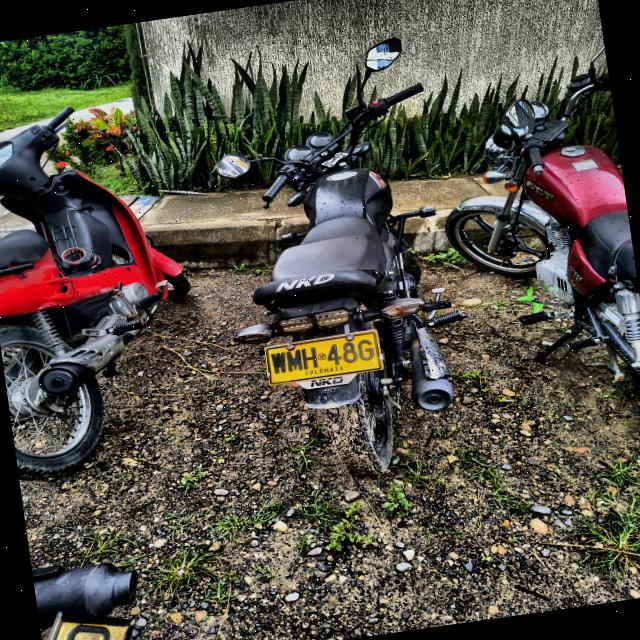plate: (264, 331, 383, 385)
